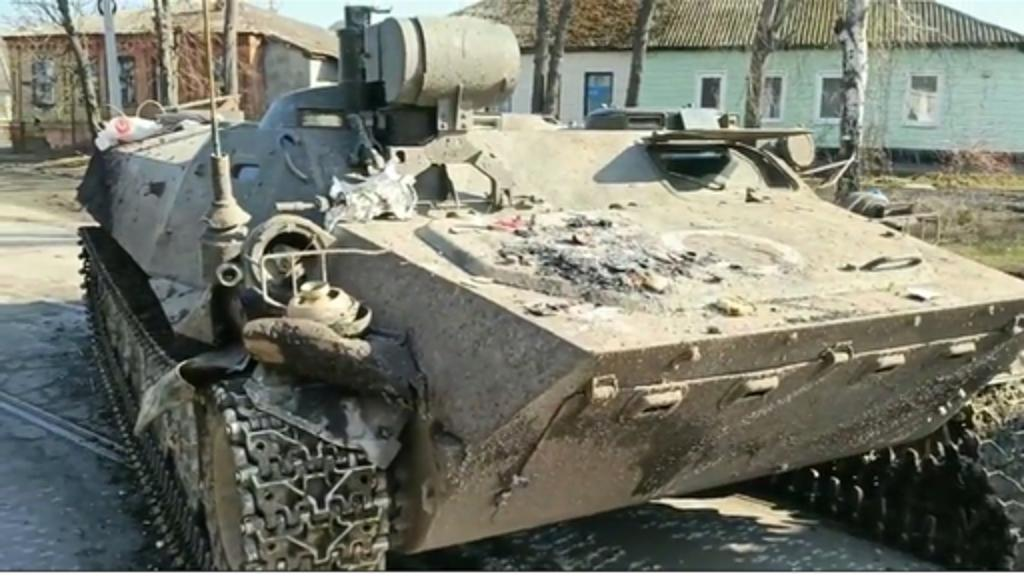APC-IFV: (76, 8, 1024, 570)
